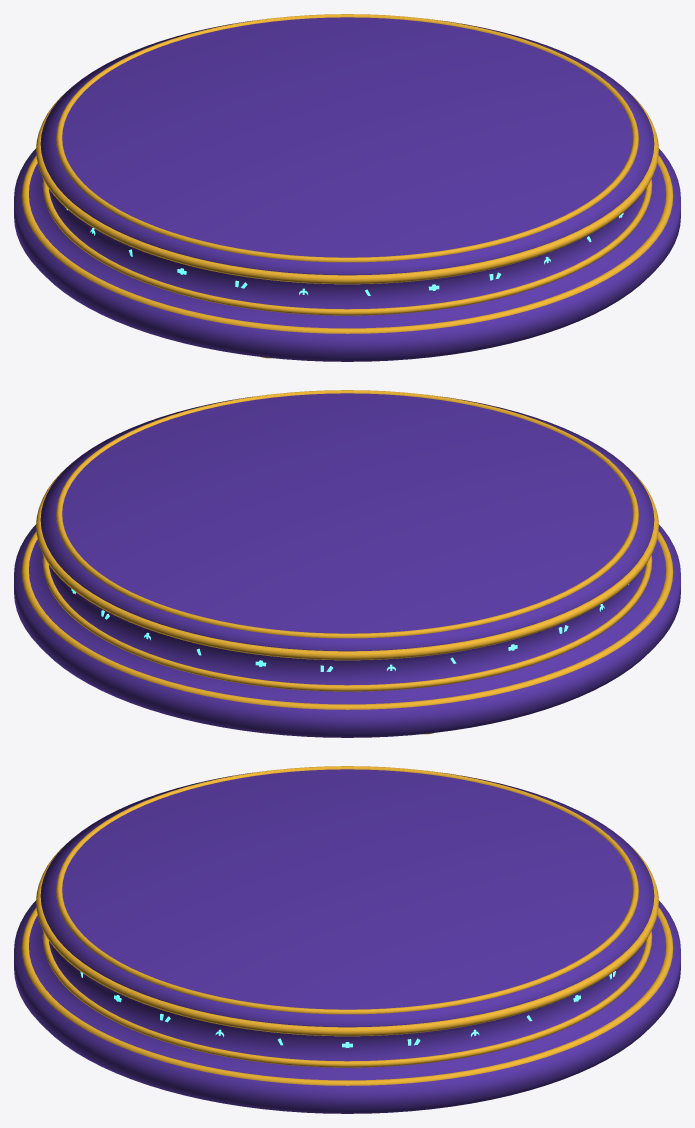
Rendered from piedestal.glb.
The picture shows the model from 3 angles, top to bottom: view 1: azimuth 30°, elevation 25°; view 2: azimuth 150°, elevation 25°; view 3: azimuth 270°, elevation 25°; orthographic projection.
Parts seen in each view (by area): view 1: Piedestal; view 2: Piedestal; view 3: Piedestal.
Boxes of the visible parts, <box> form: Piedestal: <box>14,14,680,361</box>; Piedestal: <box>14,390,680,737</box>; Piedestal: <box>14,766,680,1113</box>.
Size of the model in its own units: 10 by 1.59 by 10.
